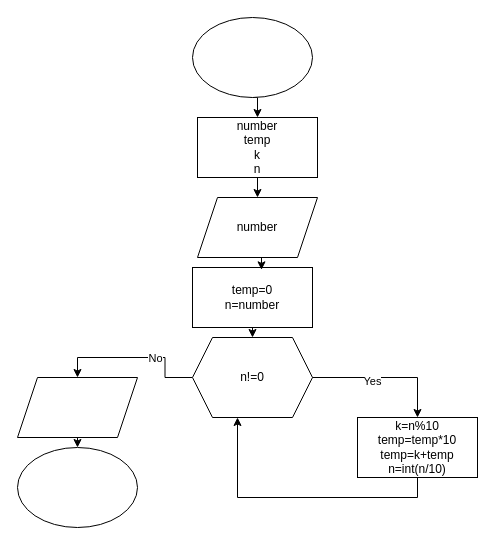
Image size: 495x545. Some labels were removed from this diagram. The shapes that lost their labels are listed below. From the top down, each one's centre as x and y in pixels, then its label:
At (252,57): "start".
At (77,407): "temp".
